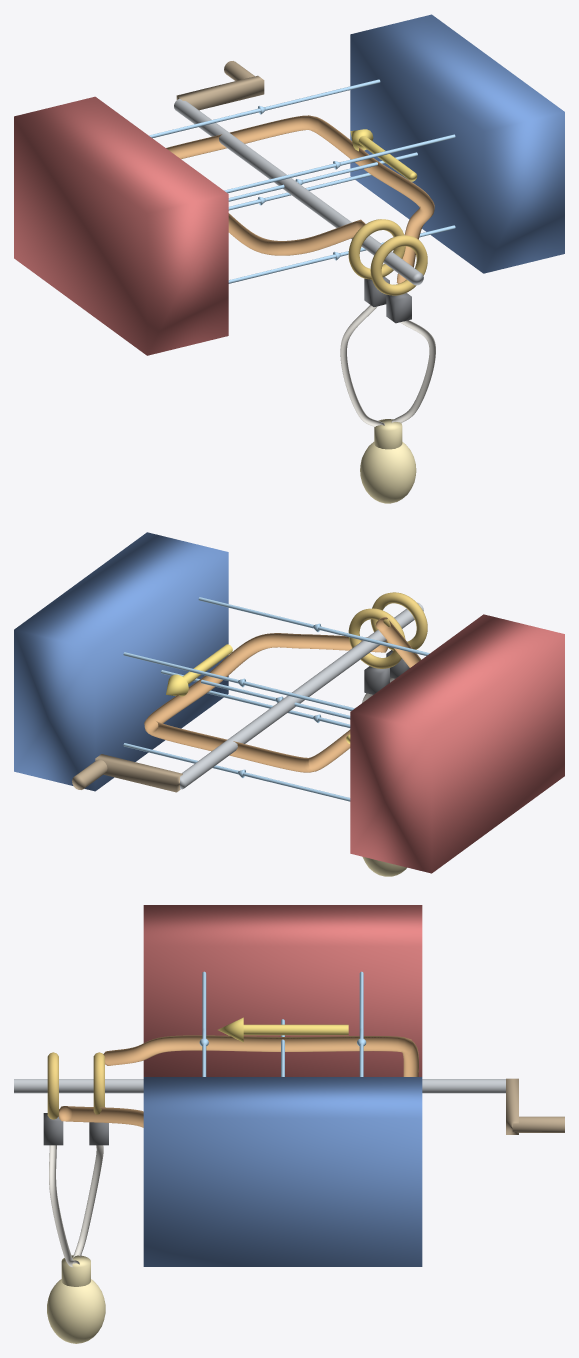
The model's file is ac_generator.glb.
The picture shows the model from 3 angles, top to bottom: view 1: azimuth 30°, elevation 25°; view 2: azimuth 150°, elevation 25°; view 3: azimuth 270°, elevation 25°; orthographic projection. The views are drawn at different scales.
Visible parts, largest first — view 1: north_pole, south_pole, coil, field, axle, bulb, slip_rings, wires, handle, brushes, induced; view 2: north_pole, south_pole, coil, field, axle, slip_rings, handle, induced, brushes, bulb; view 3: south_pole, north_pole, coil, bulb, axle, wires, induced, handle, slip_rings, field, brushes.
Boxes of the visible parts, x1=… form: north_pole: x1=14, y1=96, x2=228, y2=355; south_pole: x1=350, y1=14, x2=564, y2=273; coil: x1=166, y1=115, x2=434, y2=283; field: x1=149, y1=79, x2=455, y2=283; axle: x1=174, y1=98, x2=423, y2=285; bulb: x1=360, y1=419, x2=416, y2=503; slip_rings: x1=348, y1=219, x2=427, y2=295; wires: x1=340, y1=305, x2=435, y2=426; handle: x1=176, y1=61, x2=264, y2=110; brushes: x1=364, y1=277, x2=411, y2=323; induced: x1=350, y1=129, x2=417, y2=181; north_pole: x1=350, y1=614, x2=564, y2=873; south_pole: x1=14, y1=532, x2=228, y2=791; coil: x1=144, y1=617, x2=421, y2=772; field: x1=123, y1=597, x2=429, y2=801; axle: x1=180, y1=602, x2=423, y2=789; slip_rings: x1=348, y1=592, x2=427, y2=668; handle: x1=72, y1=754, x2=182, y2=792; induced: x1=166, y1=644, x2=350, y2=743; brushes: x1=364, y1=650, x2=409, y2=694; bulb: x1=362, y1=856, x2=406, y2=876; south_pole: x1=143, y1=1077, x2=422, y2=1266; north_pole: x1=143, y1=905, x2=422, y2=1076; coil: x1=58, y1=1035, x2=418, y2=1127; bulb: x1=47, y1=1255, x2=105, y2=1343; axle: x1=14, y1=1079, x2=505, y2=1093; wires: x1=49, y1=1145, x2=103, y2=1267; induced: x1=218, y1=1017, x2=348, y2=1042; handle: x1=506, y1=1078, x2=564, y2=1134; slip_rings: x1=47, y1=1052, x2=104, y2=1119; field: x1=199, y1=971, x2=366, y2=1076; brushes: x1=43, y1=1113, x2=108, y2=1145.
Bounding box in the file's own units: 0.154 × 0.1109 × 0.168.
